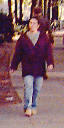person: (14, 20, 53, 121)
